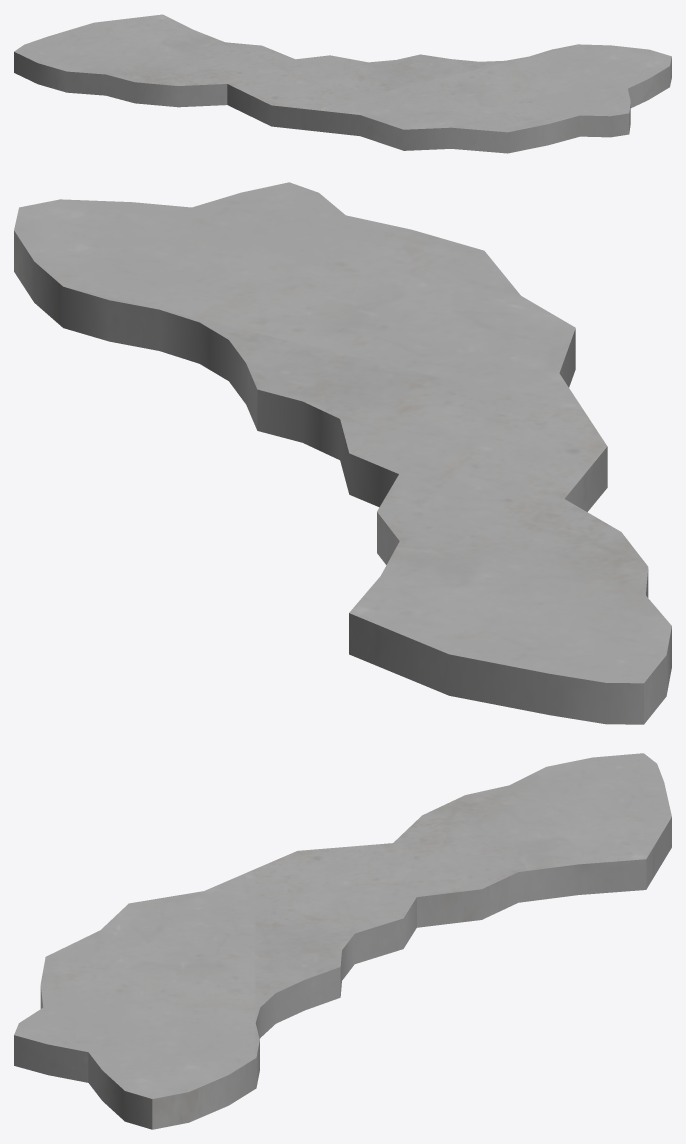
File: SM_Ground_Debris_S5.fbx
3 renders of one model, top to bottom at view 1: azimuth 30°, elevation 25°; view 2: azimuth 150°, elevation 25°; view 3: azimuth 270°, elevation 25°, orthographic. The views are drawn at different scales.
Parts seen in each view (by area): view 1: SM_Ground_Debris_S5_LOD0; view 2: SM_Ground_Debris_S5_LOD0; view 3: SM_Ground_Debris_S5_LOD0.
Part boxes in pixels (<box>): SM_Ground_Debris_S5_LOD0: <box>14,14,671,153</box>; SM_Ground_Debris_S5_LOD0: <box>14,182,671,724</box>; SM_Ground_Debris_S5_LOD0: <box>14,753,671,1129</box>.
Size of the model in its own units: 157 by 126 by 6.48.
Materials: 1 (1 with a texture image).
